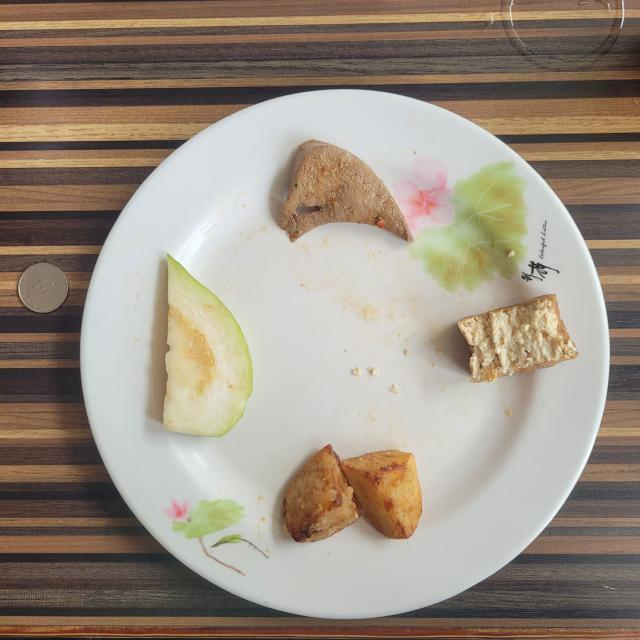coin: (18, 262, 69, 312)
egg tofu: (458, 295, 579, 382)
fried potato: (282, 445, 422, 542)
guava -sliced-: (164, 255, 252, 436)
pig liver: (278, 140, 414, 242)
